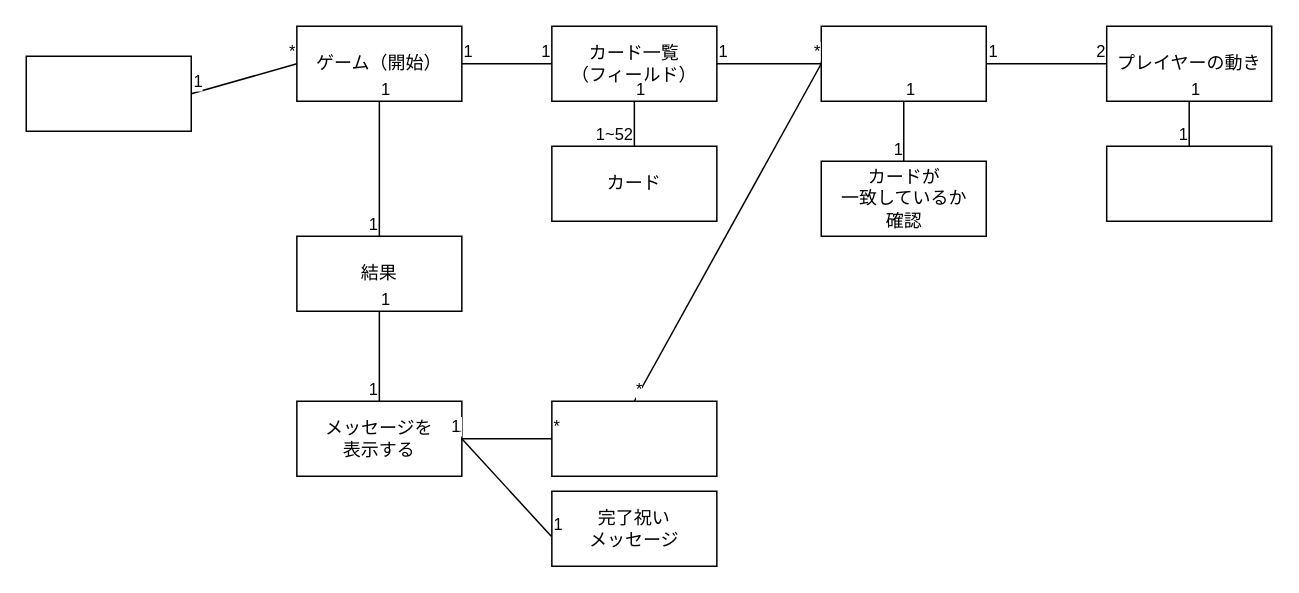
The diagram is 1299 pixels wide and 593 high, and some of its shapes have lost their labels. Here are the shapes that lost their labels. From the top down, the centre of each, then its label:
At (903,63): "ターン".
At (108,93): "プレイヤー".
At (1188,183): "カードをめくる".
At (633,438): "ターン数の表示".
